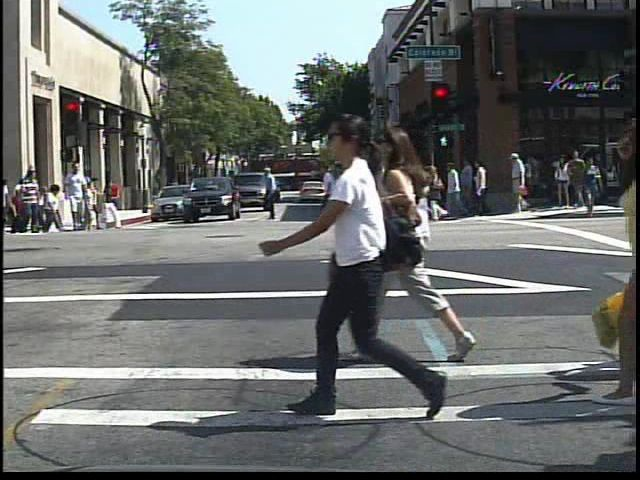person: (281, 106, 426, 422), (376, 119, 481, 365), (61, 161, 91, 233), (16, 167, 41, 236), (507, 148, 530, 214), (106, 175, 126, 214), (166, 173, 184, 206)
